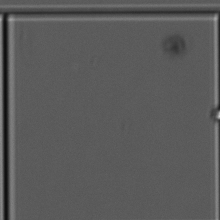Dead Cell: (164, 33, 187, 55)
